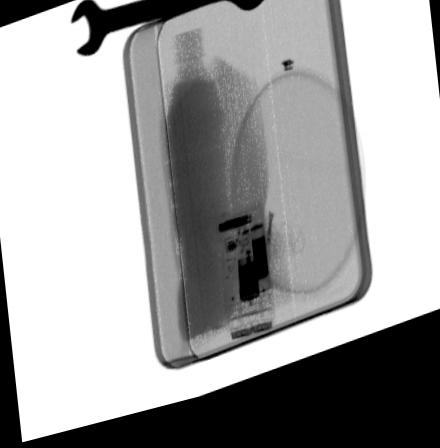Wrench: (69, 0, 273, 60)
